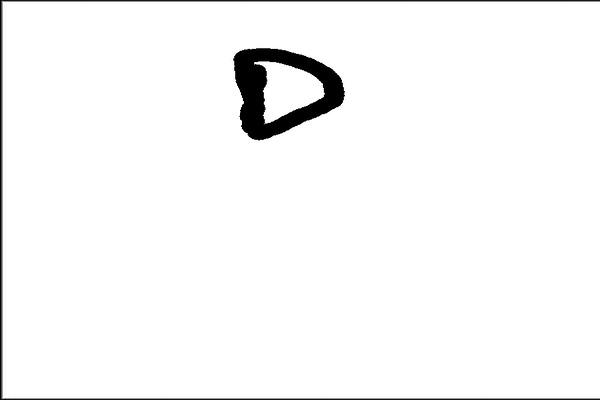D: (224, 43, 350, 145)
